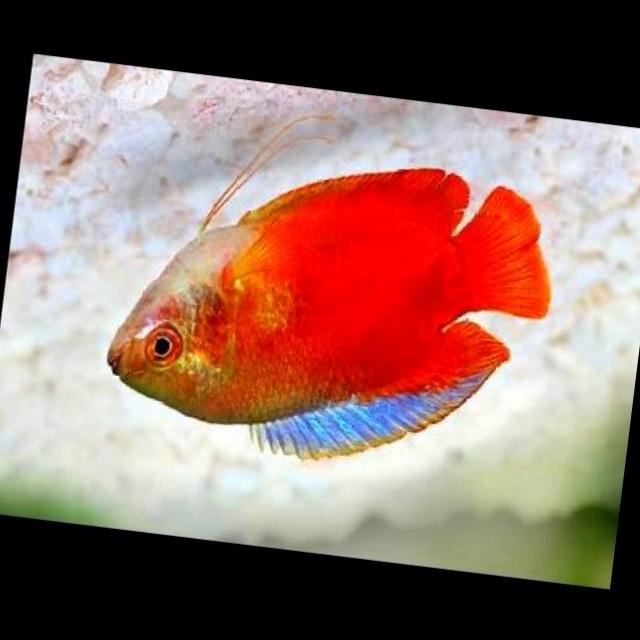Gourami: (96, 137, 558, 490)
